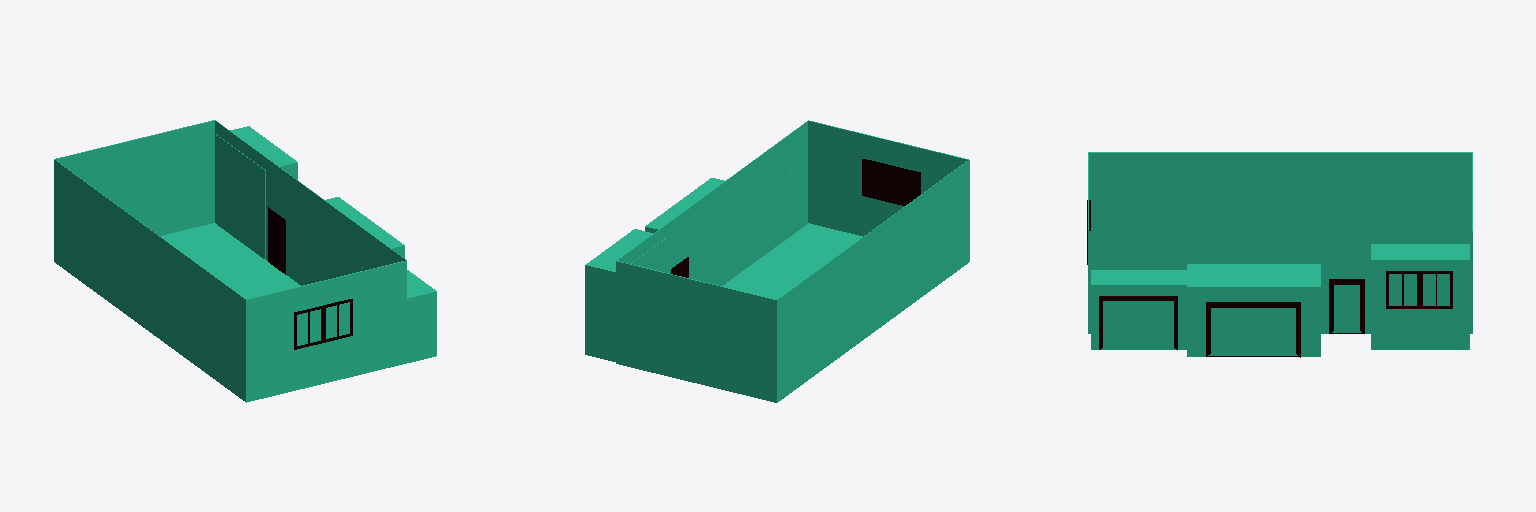
File: family_house_open.obj
3 renders of one model, left to right at view 1: azimuth 30°, elevation 25°; view 2: azimuth 150°, elevation 25°; view 3: azimuth 270°, elevation 25°, orthographic.
Visible parts, largest first — view 1: Main, Cube.002, Cube.007, Cube.004, Door.002; view 2: Main, Cube.002, Cube.007, Window.005, Window.004, Cube.004; view 3: Main, Cube.004, Cube.002, Cube.007, Door, Door.001, Door.002.
Part boxes in pixels (x1,y1,x2,y2): Main: (54, 120, 406, 402); Cube.002: (216, 126, 297, 259); Cube.007: (357, 264, 436, 362); Cube.004: (325, 197, 404, 258); Door.002: (268, 207, 285, 274); Main: (616, 120, 969, 402); Cube.002: (585, 229, 667, 361); Cube.007: (760, 161, 807, 257); Window.005: (862, 159, 891, 202); Window.004: (891, 166, 920, 205); Cube.004: (645, 178, 724, 232); Main: (1088, 152, 1472, 333); Cube.004: (1187, 264, 1320, 356); Cube.002: (1371, 244, 1469, 349); Cube.007: (1091, 270, 1186, 349); Door: (1206, 302, 1300, 357); Door.001: (1099, 296, 1177, 349); Door.002: (1329, 279, 1364, 333).
Size of the model in its own units: 6.5 by 3.06 by 10.29.